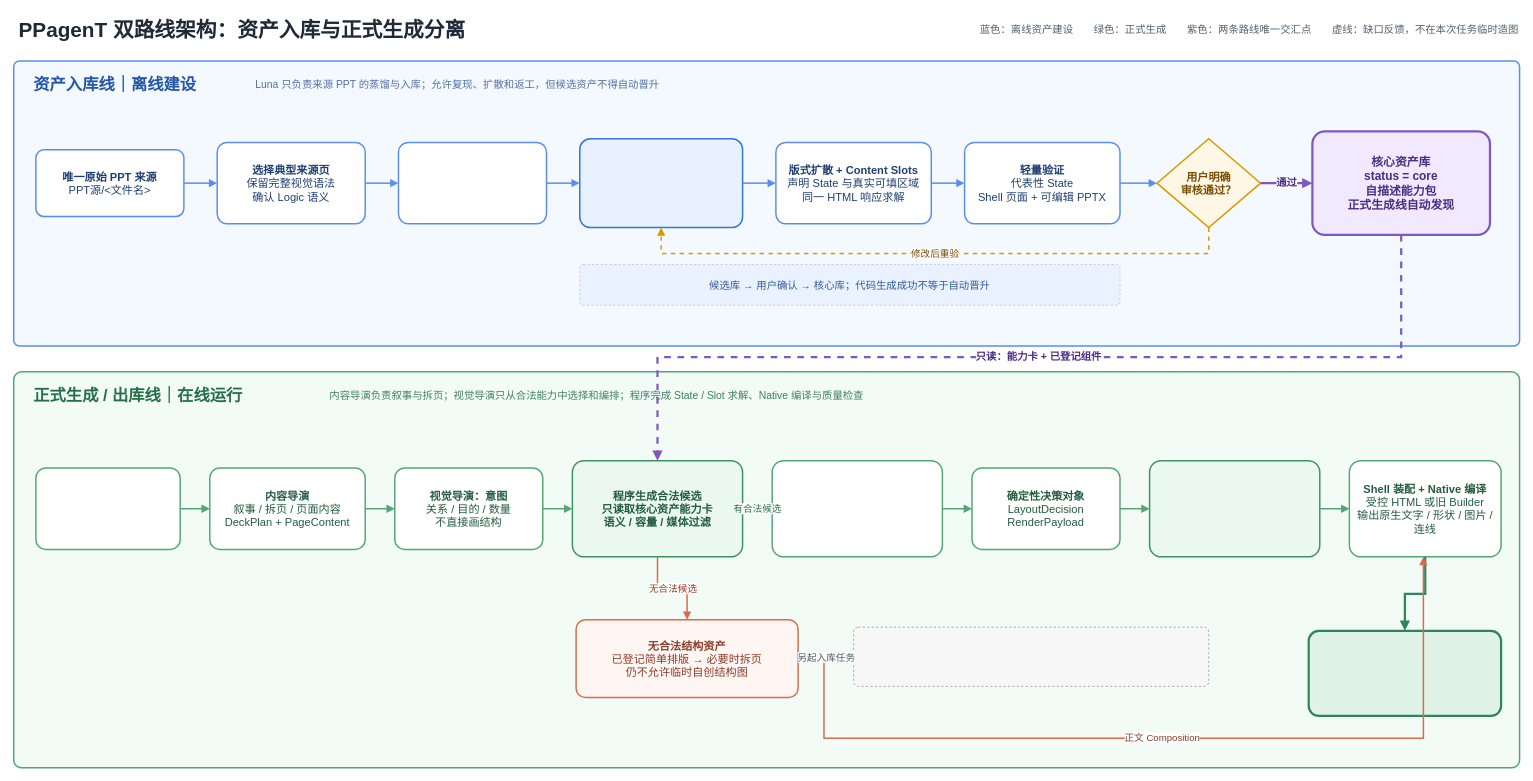
Some shapes in this 1533 by 781 pixel diagram are drawn without their labels. Here are the shapes that lost their labels. From the top down, the box of each, then its label:
(397, 141, 547, 224): Luna 蒸馏 理解原版美学 复现结构而非自由重绘
(579, 138, 743, 228): HTML Component Structure Group 唯一布局来源 CSS / 响应规则 / 替换接口
(35, 467, 181, 550): 业务输入 稿件/<文件名> Skin + DeepSeek API
(771, 460, 943, 557): 视觉导演：编排 选择 Logic / Structure Group 填写组件绑定与整套节奏
(1148, 460, 1320, 557): Mapper + State + Slots 父结构先求解真实可填区域 文字或合法一级子 Logic
(853, 626, 1209, 686): 能力缺口只进入下一次独立入库任务 本次正式生成不会回写或自动晋升核心资产
(1307, 629, 1502, 717): 正式交付 可靠、原生可编辑 PPTX Shell 完整 + 内容可修改
